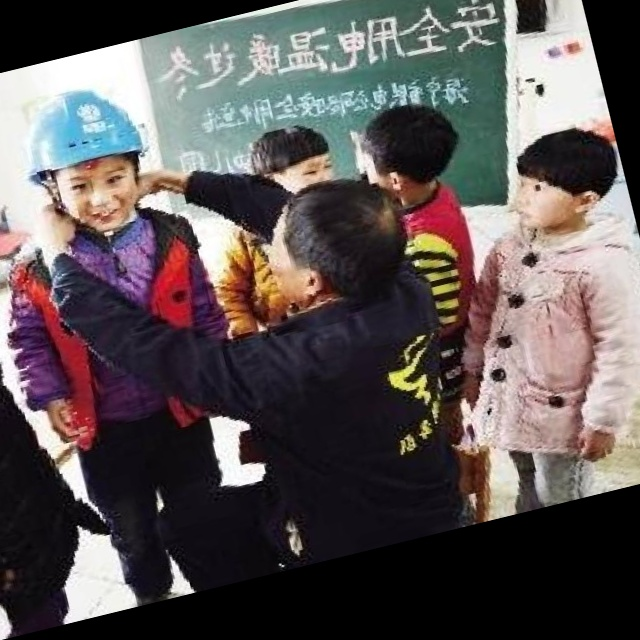Con_Casco: (10, 77, 162, 237)
Sin_Casco_Mascarrilla: (489, 123, 631, 243)
